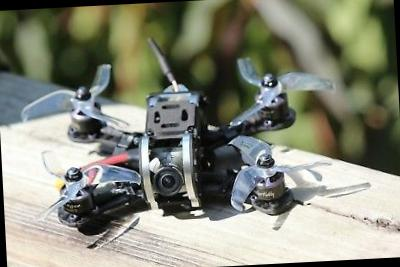drone: (17, 41, 374, 240)
